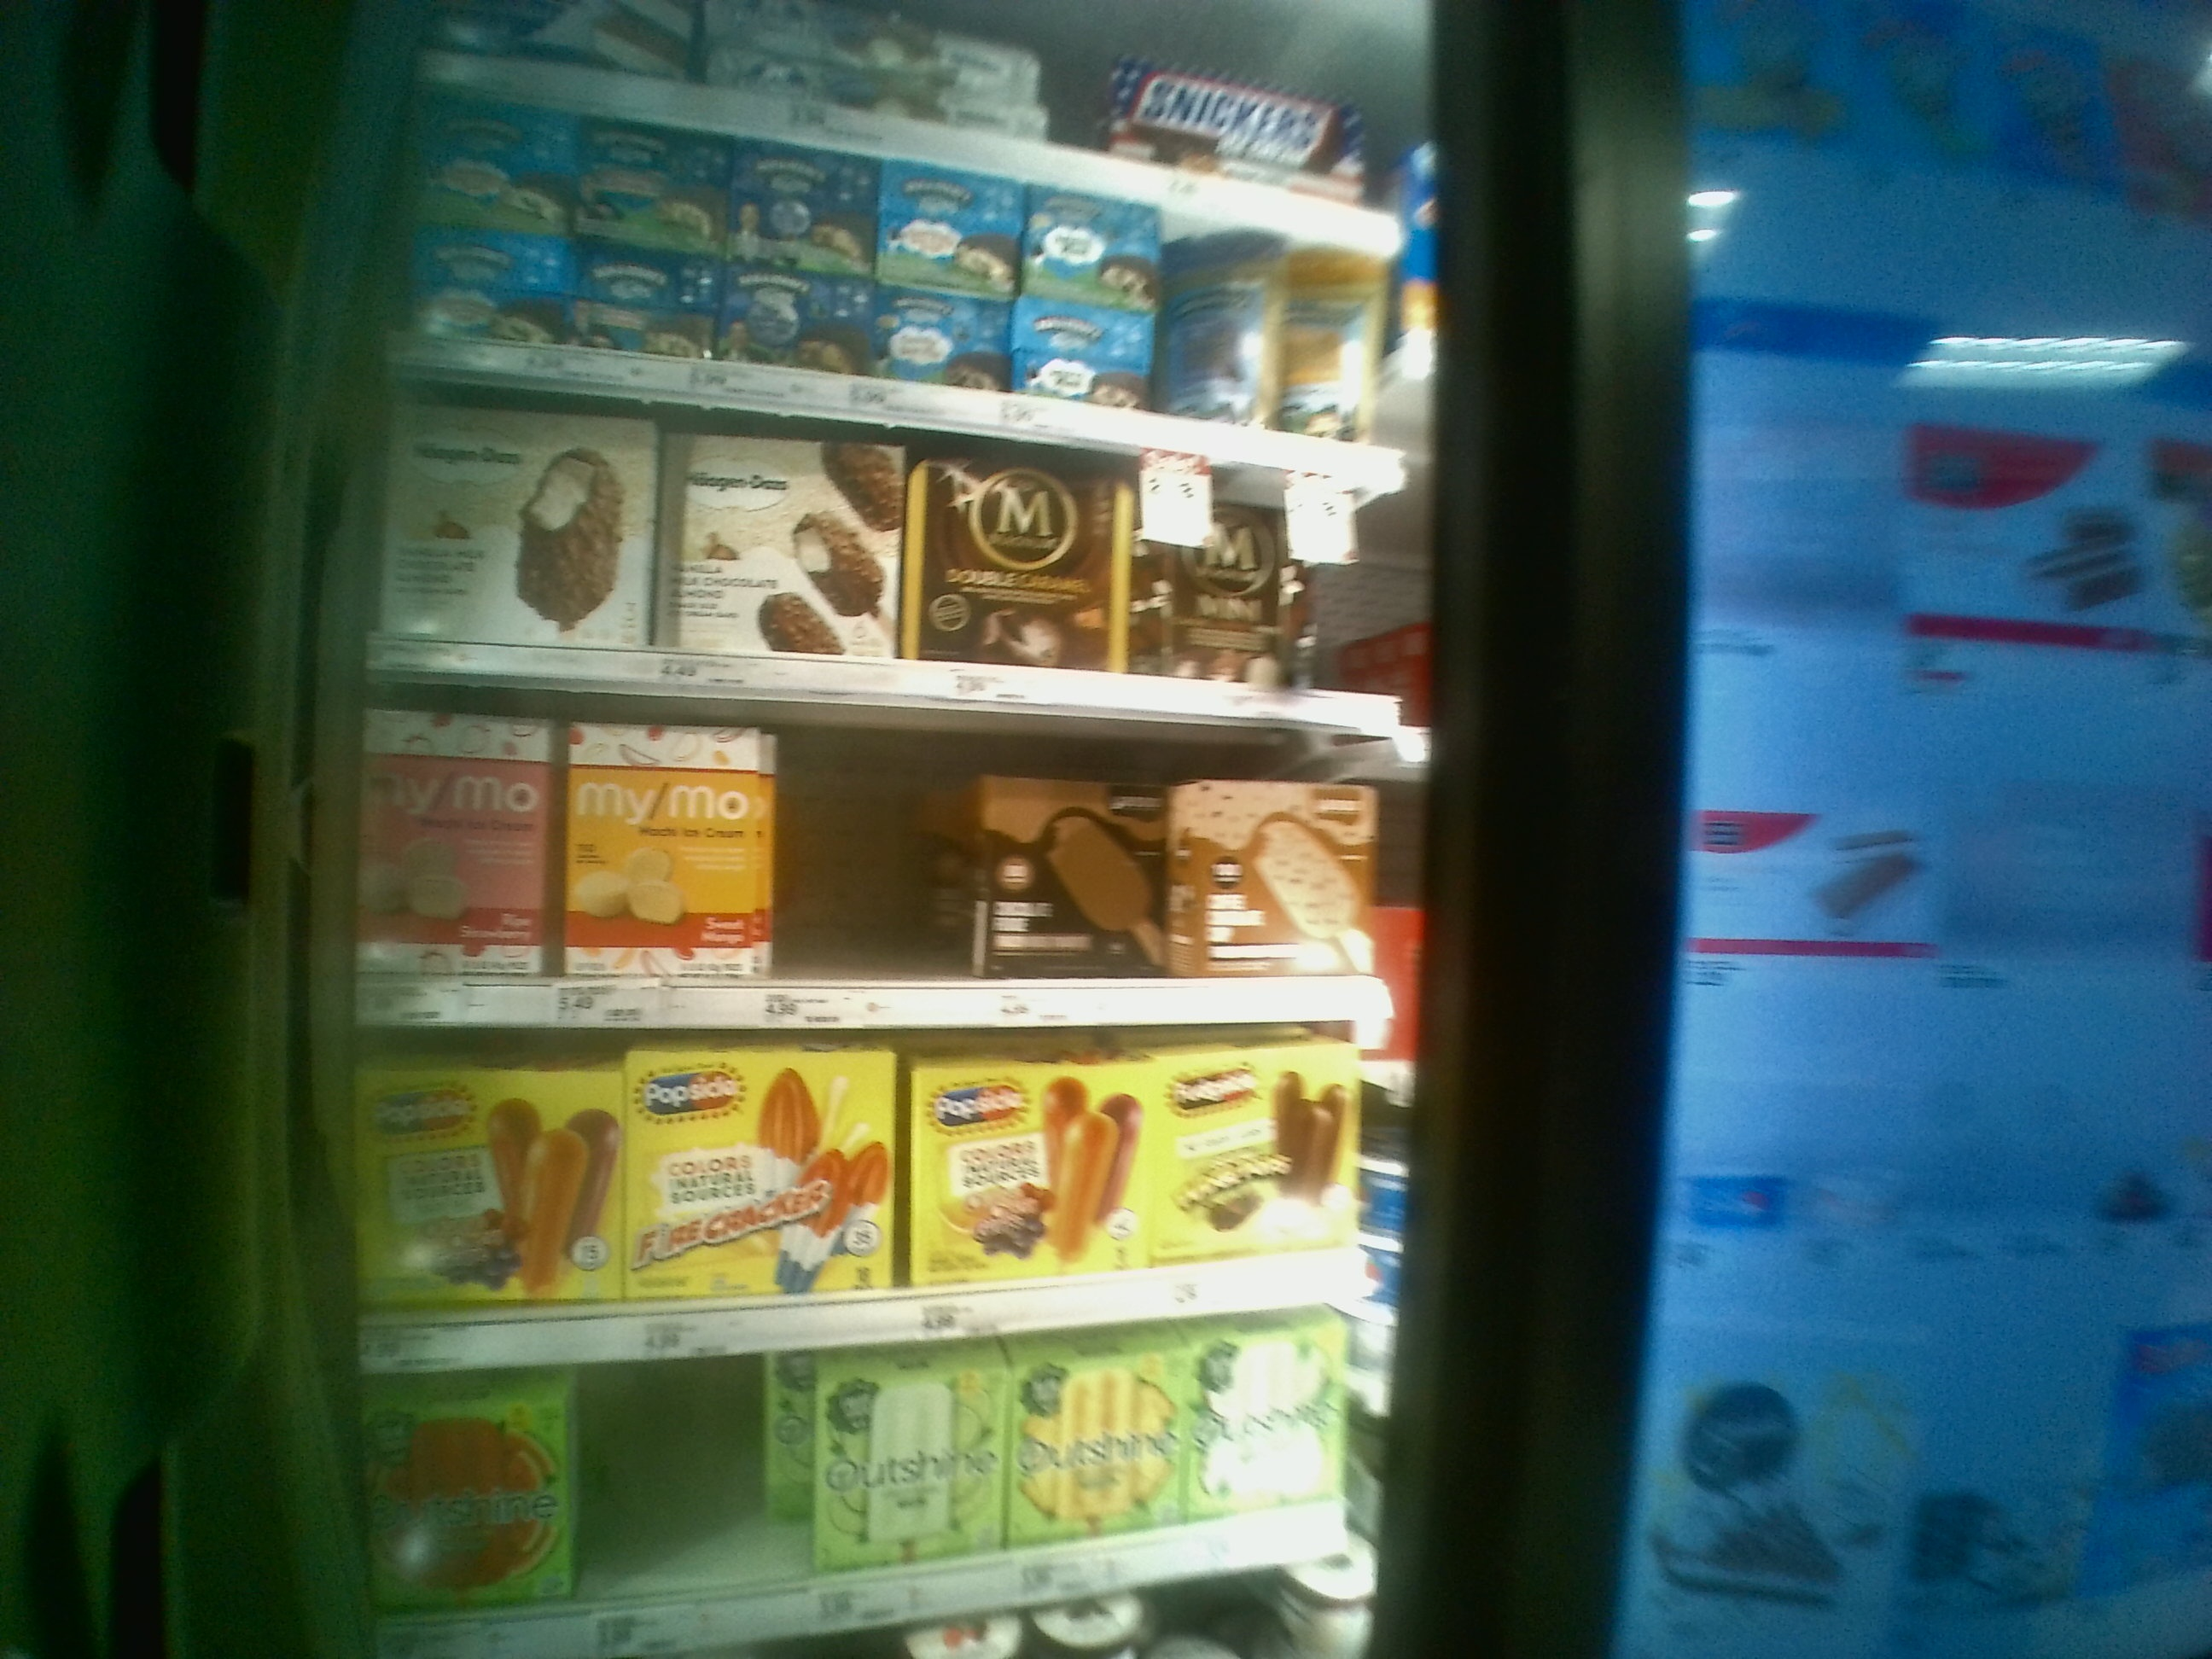ice-cream-shelf: (364, 673, 1393, 1025)
